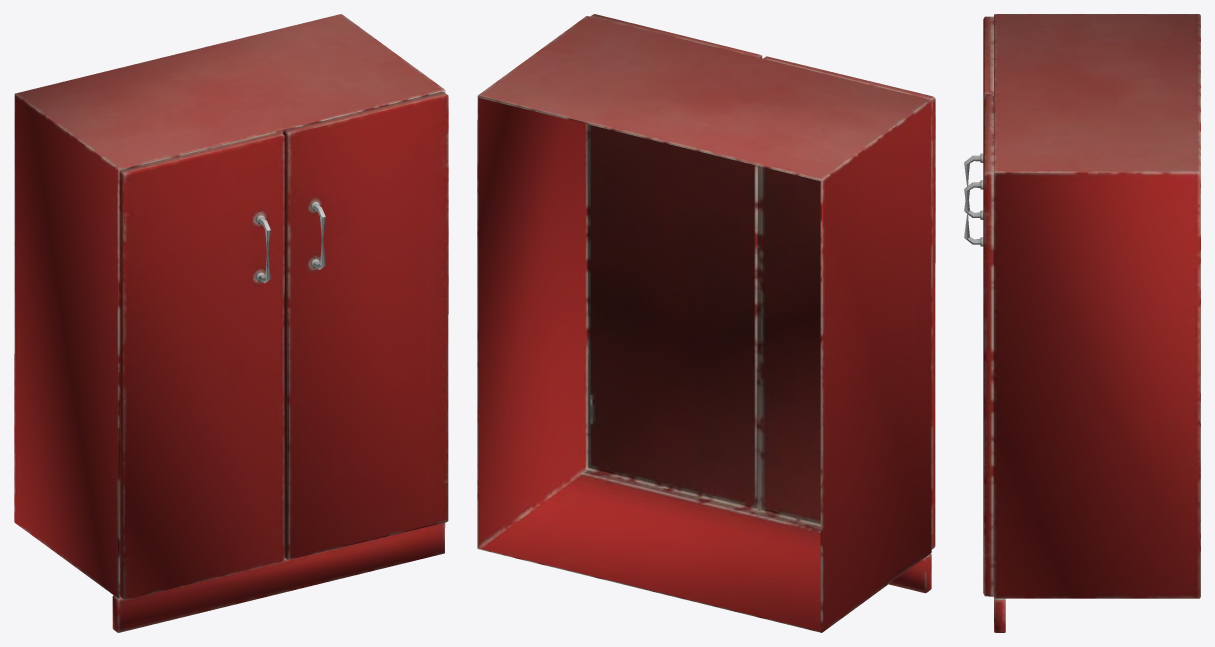
File: kit_upper_60_red-low.glb
3 renders of one model, left to right at view 1: azimuth 30°, elevation 25°; view 2: azimuth 150°, elevation 25°; view 3: azimuth 270°, elevation 25°, orthographic. The views are drawn at different scales.
Parts seen in each view (by area): view 1: kit_upper_60_red-low; view 2: kit_upper_60_red-low; view 3: kit_upper_60_red-low.
Boxes of the visible parts, x1,y1,x2,y2 form: kit_upper_60_red-low: [14, 14, 448, 632]; kit_upper_60_red-low: [477, 14, 935, 632]; kit_upper_60_red-low: [964, 14, 1200, 632].
Size of the model in its own units: 0.598 by 0.81 by 0.3768.
Materials: 1 (1 with a texture image).
